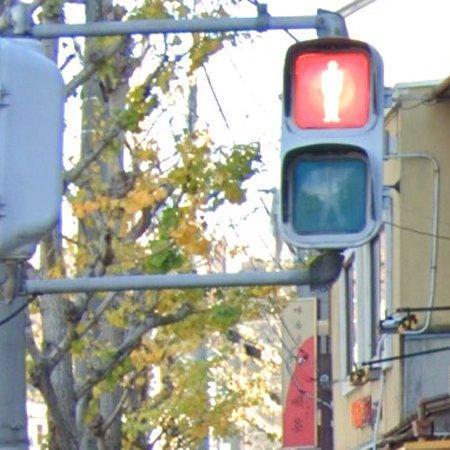traffic lights: (279, 38, 386, 252)
